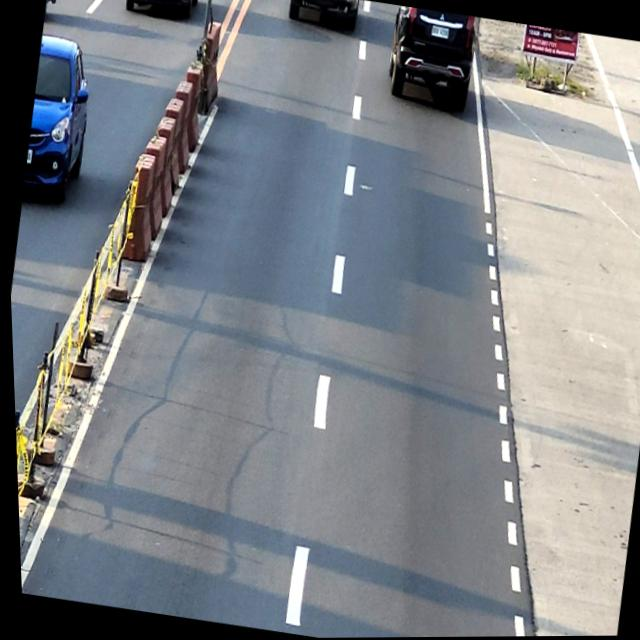Car: (17, 33, 101, 203), (381, 5, 480, 115), (286, 0, 361, 34), (125, 0, 203, 18)
License-Plate: (431, 26, 449, 40), (25, 148, 33, 164)
